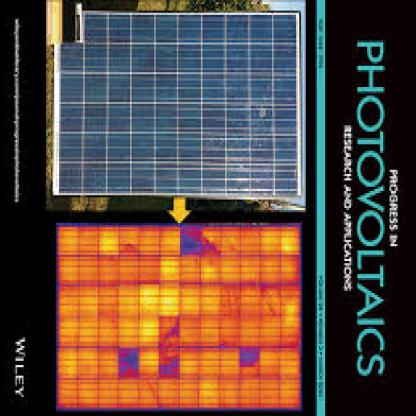Defects: (158, 286, 179, 314), (161, 261, 181, 276)
